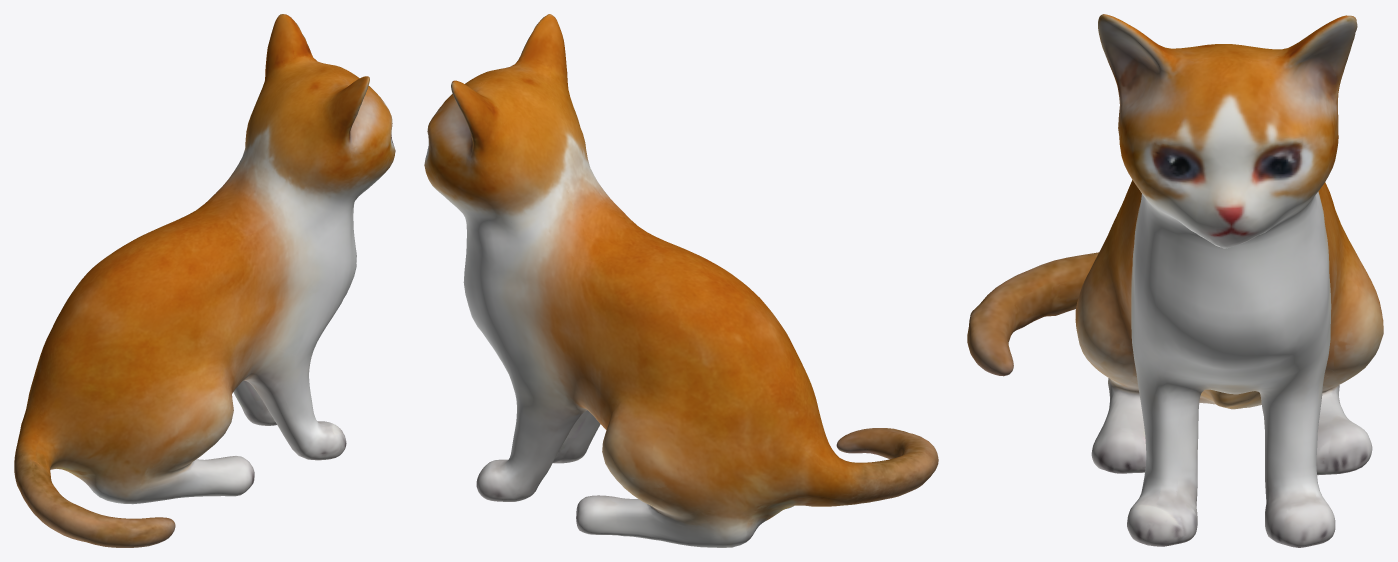
Rendered from chibi_cat.glb.
3 views of the same model, side by side, from view 1: azimuth 30°, elevation 25°; view 2: azimuth 150°, elevation 25°; view 3: azimuth 270°, elevation 25° (orthographic). The views are drawn at different scales.
Parts seen in each view (by area): view 1: Object_4; view 2: Object_4; view 3: Object_4.
Part boxes in pixels (left/top/right/bottom): Object_4: left=14, top=14, right=395, bottom=547; Object_4: left=424, top=14, right=938, bottom=547; Object_4: left=967, top=14, right=1383, bottom=547.
Bounding box in the file's own units: 0.7369 × 0.669 × 0.4632.
1 material, 1 textured.
